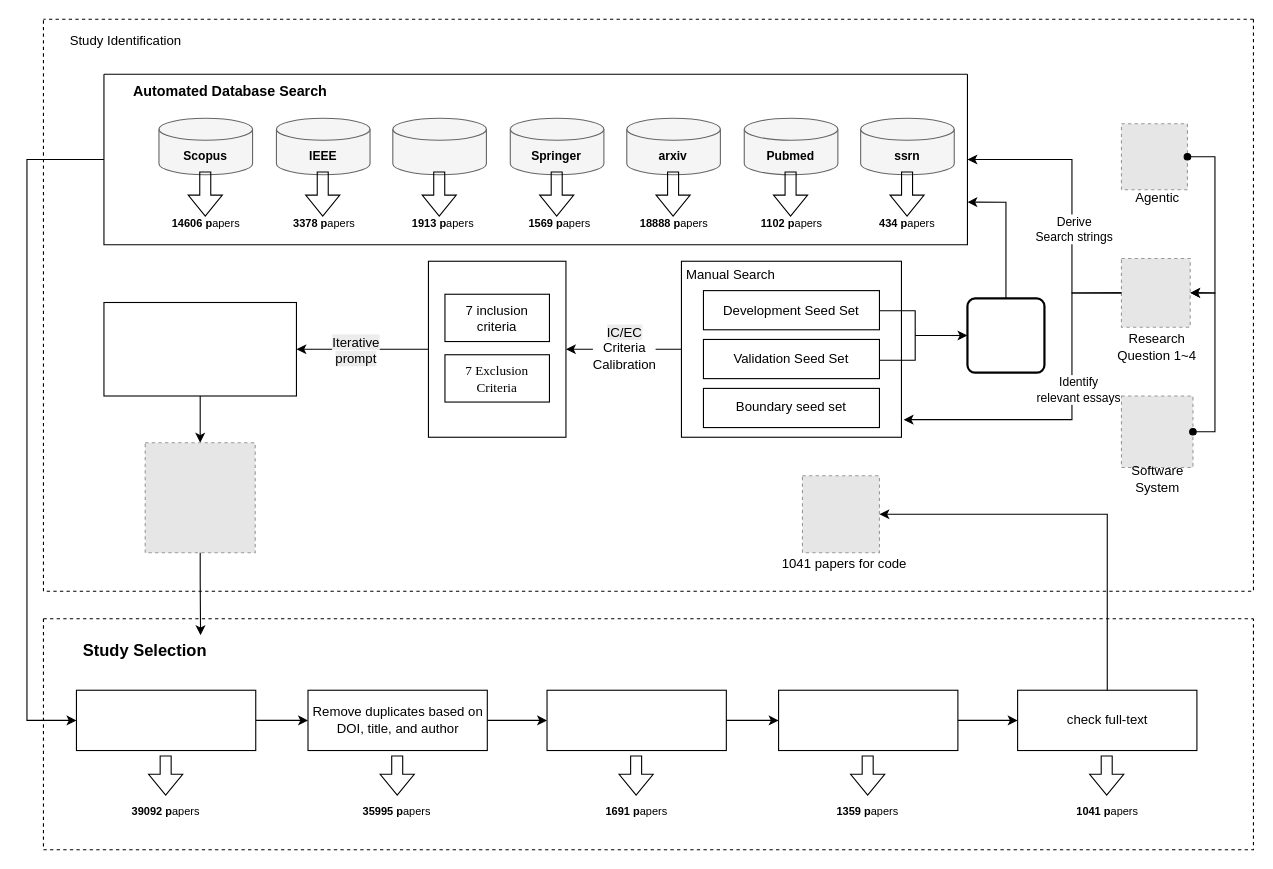
Some shapes in this 1273 by 869 pixel diagram are drawn without their labels. Grey dashed boxes stand in for pictures. Here are the shapes that lost their labels. From the top down, the centre of each, then its label:
[439,146]: ACM
[199,348]: The final prompt calibration with anti-pattern & dimension rubric
[1005,335]: Refine search strings
[165,720]: Import into Zotero
[636,720]: check the title and abstract
[867,720]: Check PDF availability
